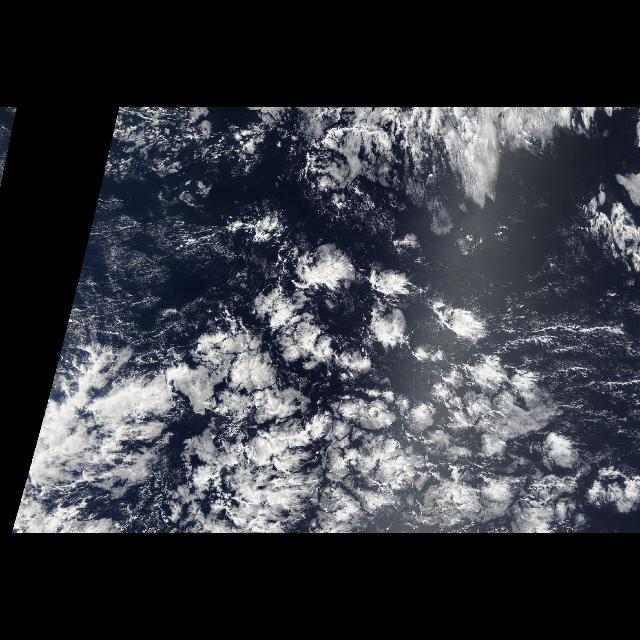Flower: (84, 218, 584, 532)
